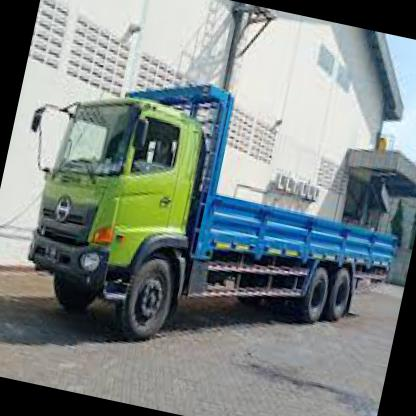truck: (11, 80, 218, 351)
